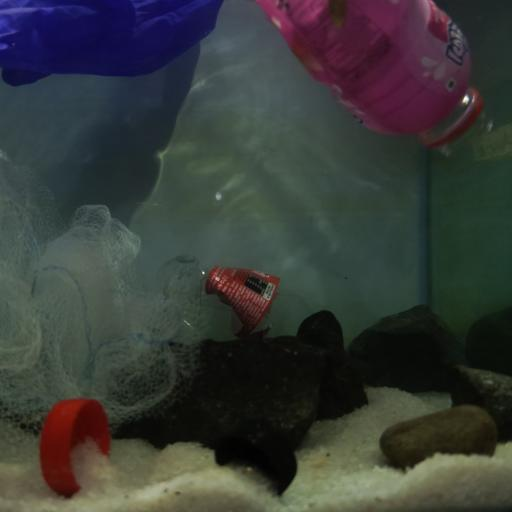bottle_cap: (39, 398, 111, 499), (214, 420, 299, 494)
glove: (0, 0, 227, 85)
net: (0, 150, 212, 429)
plastic_bottle: (252, 0, 512, 168), (157, 252, 317, 341)
